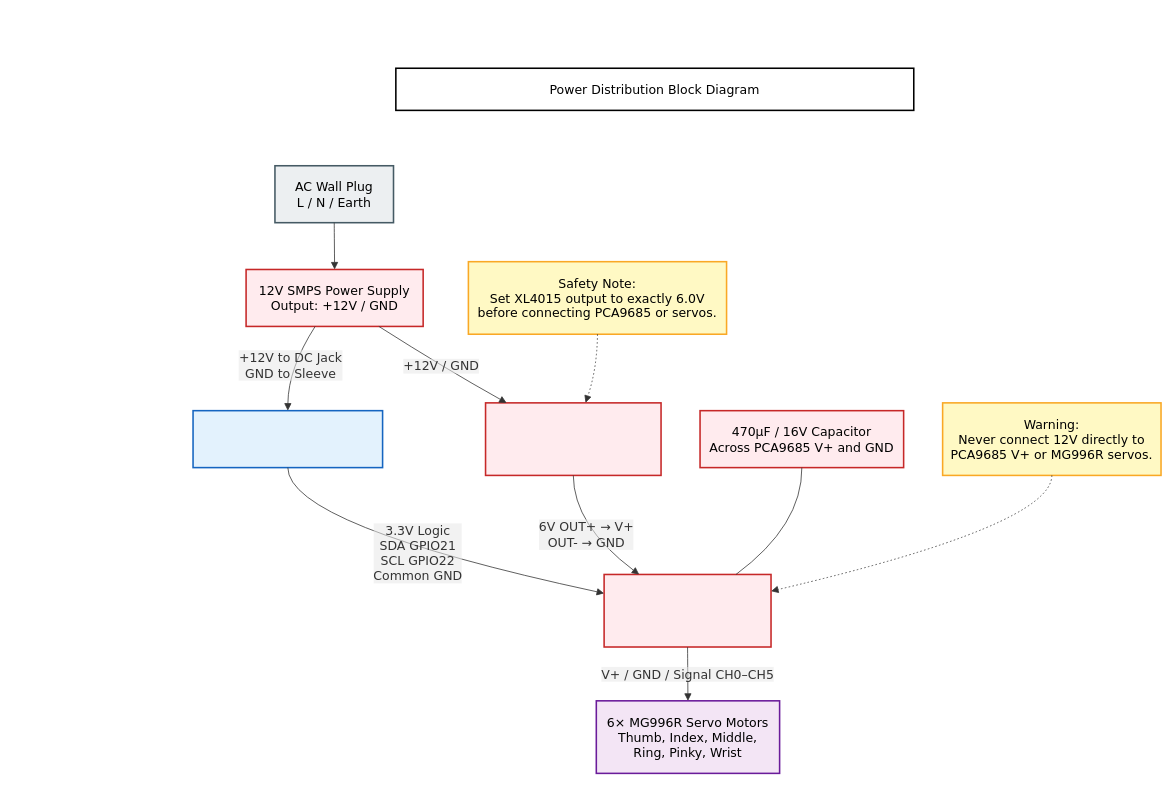
Image size: 1175x787. Some labels were removed from this diagram. Each missing label, with the centre of its shape:
"ESP32 Expansion Board Powered through DC Jack" belongs at (287,439).
"PCA9685 Servo Driver V+ Servo Power = 6V VCC Logic = 3.3V" belongs at (687,610).
"XL4015 Buck Converter Input: 12V Output: 6.0V" belongs at (572,439).
